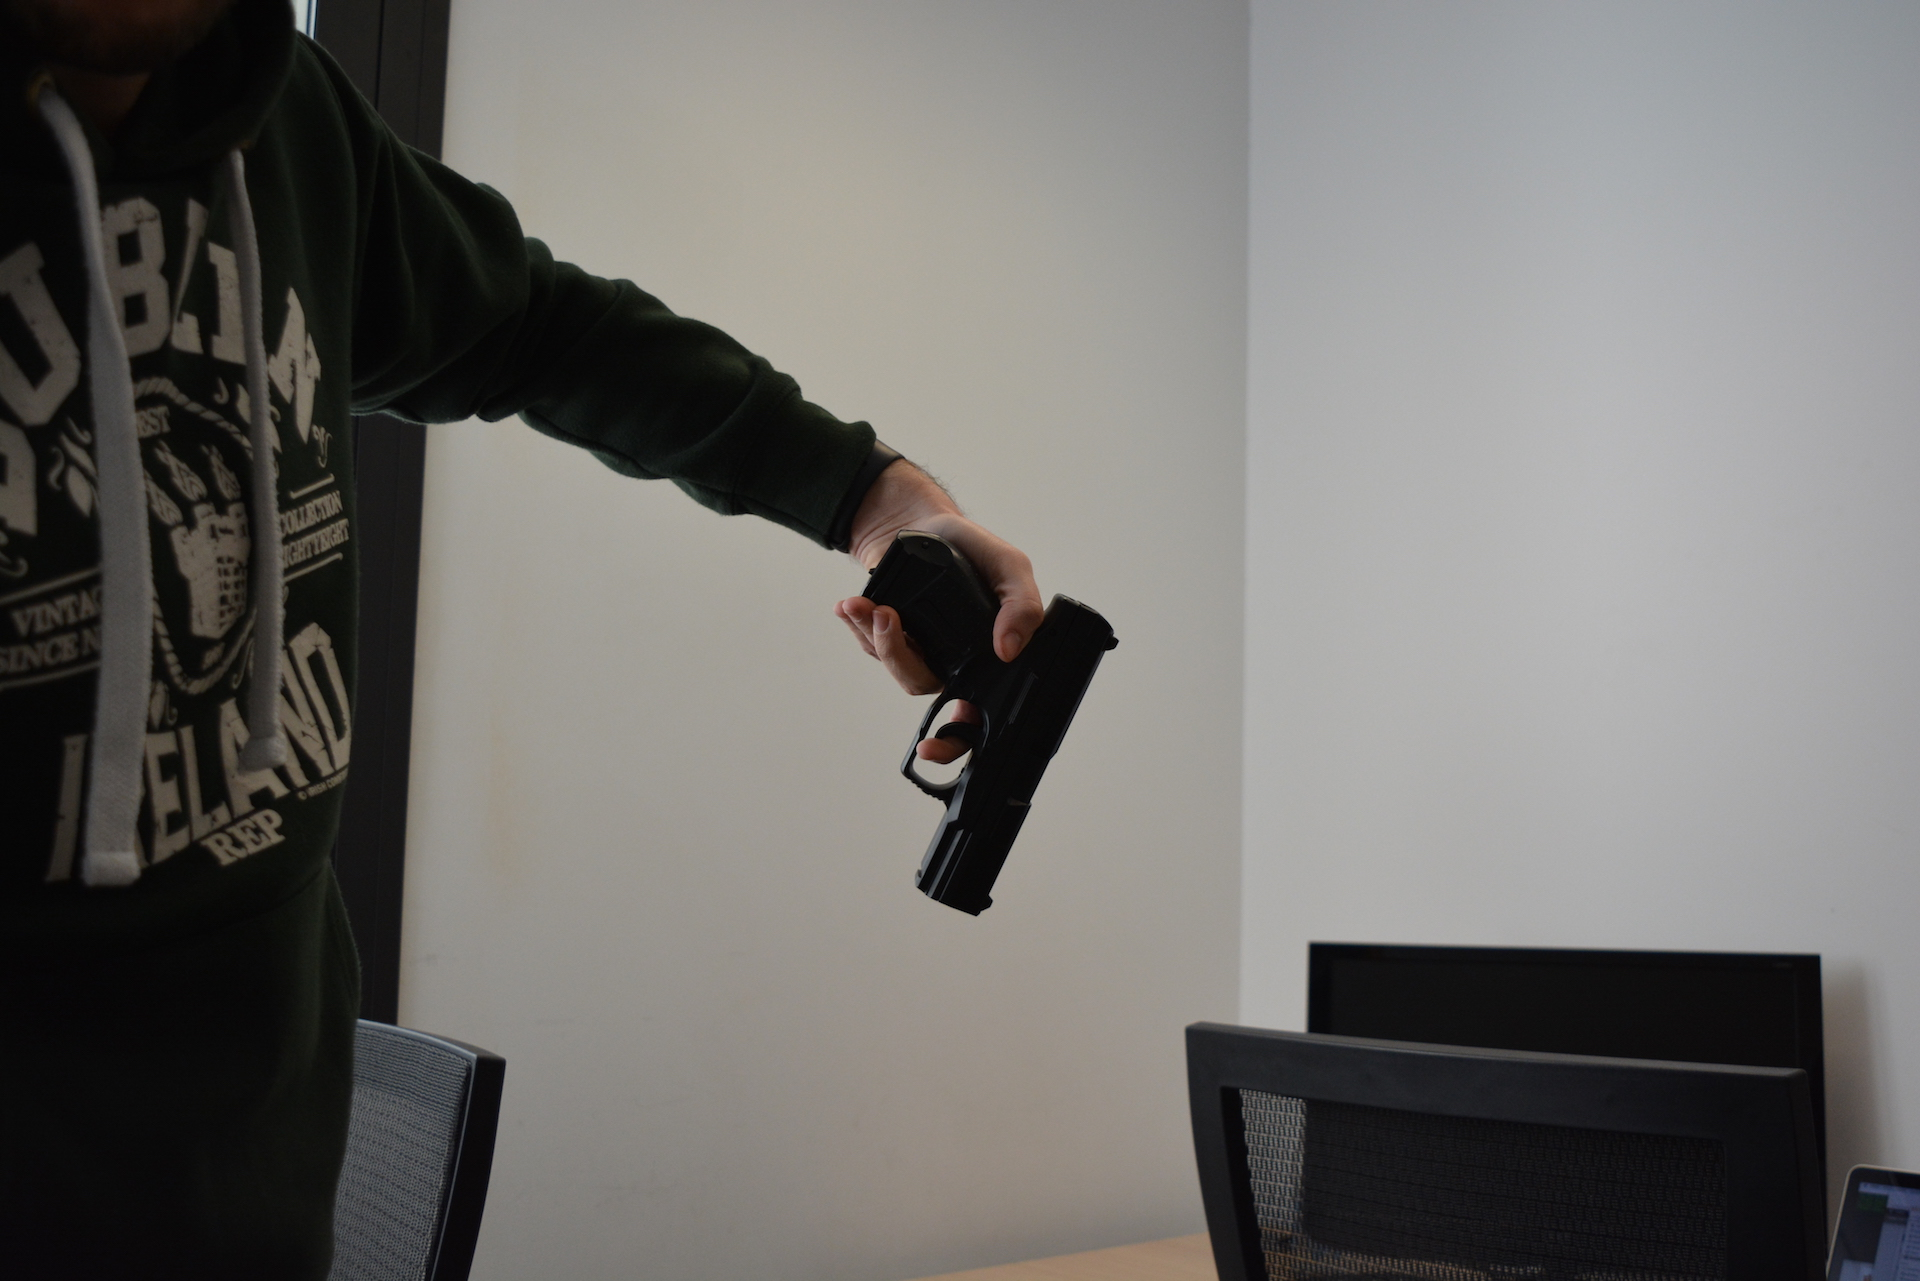pistol: (856, 528, 1124, 919)
